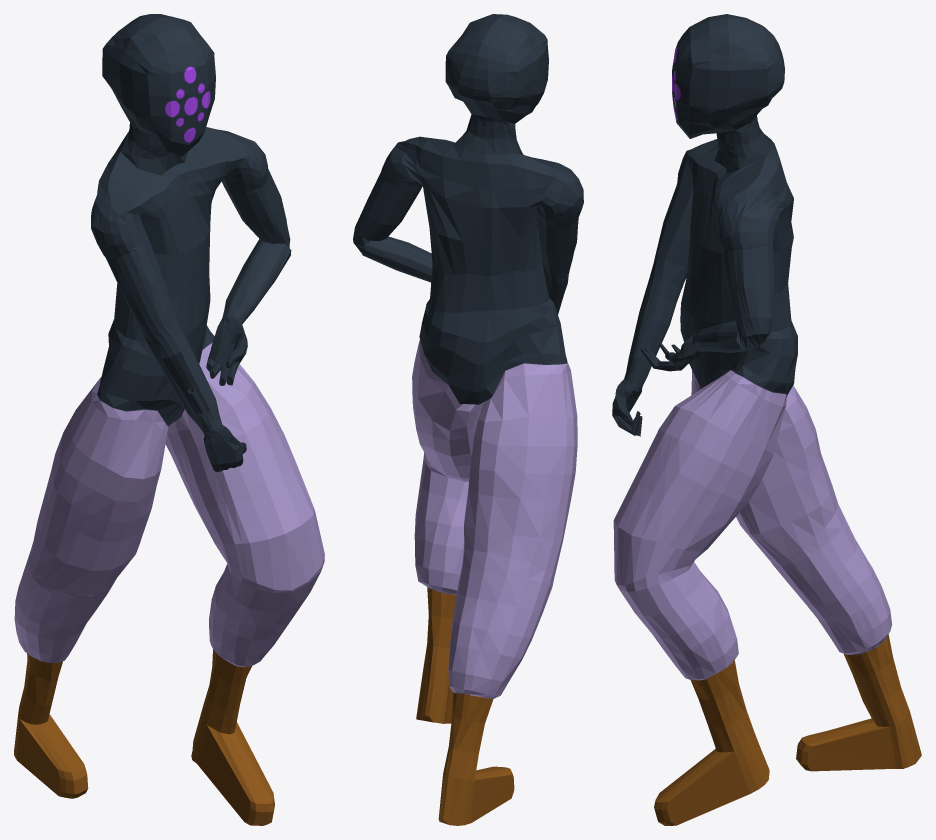
File: Oracle_Run_000023.obj
3 views of the same model, side by side, from view 1: azimuth 30°, elevation 25°; view 2: azimuth 150°, elevation 25°; view 3: azimuth 270°, elevation 25° (orthographic). The views are drawn at different scales.
Visible parts, largest first — view 1: Cube; view 2: Cube; view 3: Cube.
Boxes of the visible parts, box(x1,y1,x2,y2) form: Cube: box(14, 14, 324, 825); Cube: box(353, 14, 583, 825); Cube: box(612, 14, 921, 825).
Size of the model in its own units: 1.16 by 3.83 by 1.39.
